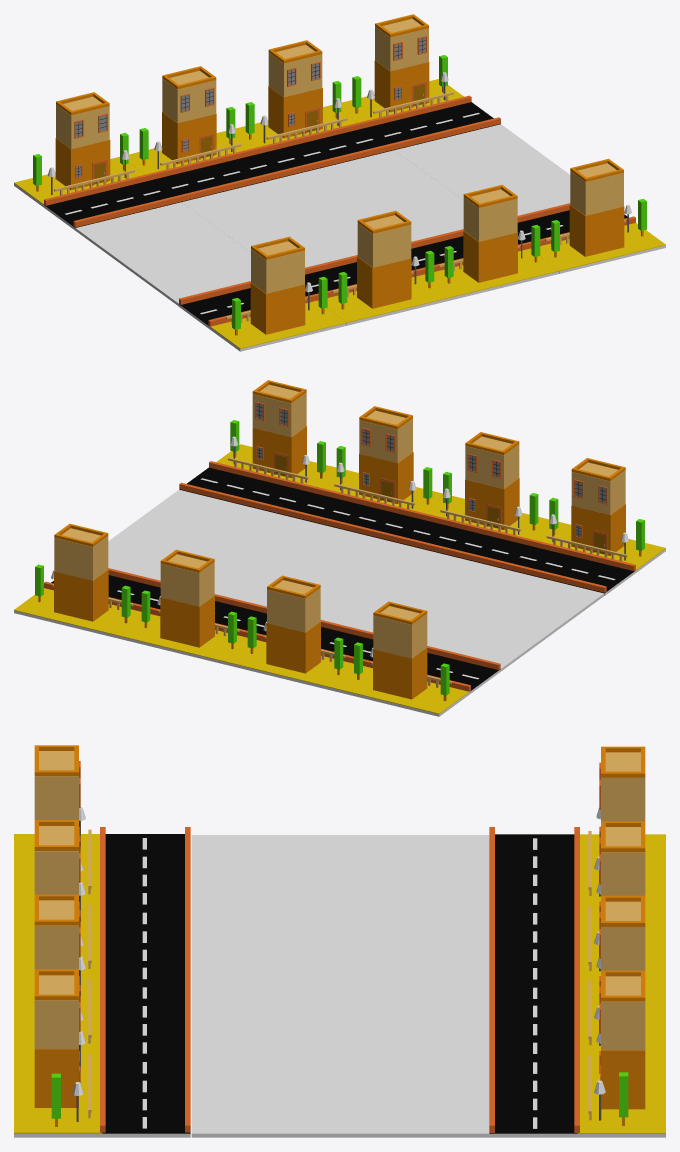
File: building121.fbx
3 renders of one model, top to bottom at view 1: azimuth 30°, elevation 25°; view 2: azimuth 150°, elevation 25°; view 3: azimuth 270°, elevation 25°, orthographic. The views are drawn at different scales.
Visible parts, largest first — view 1: Cube.121, Cube.106, Cube.055, Cube.089, Cube.072, Cube.193, Cube.039, Cube.004, Cube.022, Cube.006, Cube.024, Cube.041 (+46 smaller); view 2: Cube.121, Cube.192, Cube.021, Cube.003, Cube.038, Cube.056, Cube.073, Cube.090, Cube.107, Cube.058, Cube.075, Cube.109 (+46 smaller); view 3: Cube.121, Cube.038, Cube.055, Cube.003, Cube.072, Cube.021, Cube.089, Cube.192, Cube.106, Cube.037, Cube.054, Cube.058 (+33 smaller).
Part boxes in pixels (x1,y1,x2,y2): Cube.121: (75, 124, 570, 306); Cube.106: (44, 180, 181, 227); Cube.055: (365, 102, 500, 149); Cube.089: (153, 154, 287, 201); Cube.072: (259, 128, 394, 175); Cube.193: (250, 283, 305, 334); Cube.039: (569, 205, 624, 256); Cube.004: (357, 256, 411, 308); Cube.022: (463, 230, 517, 282); Cube.006: (357, 215, 411, 267); Cube.024: (463, 189, 517, 241); Cube.041: (570, 163, 623, 215); Cube.121: (108, 490, 603, 671); Cube.192: (498, 545, 634, 593); Cube.021: (285, 493, 420, 541); Cube.003: (392, 519, 527, 567); Cube.038: (179, 467, 314, 515); Cube.056: (54, 569, 108, 621); Cube.073: (160, 595, 214, 647); Cube.090: (266, 621, 320, 673); Cube.107: (373, 647, 427, 699); Cube.058: (54, 528, 108, 580); Cube.075: (160, 554, 214, 606); Cube.109: (373, 606, 427, 658); Cube.121: (191, 835, 489, 1137); Cube.038: (102, 1058, 190, 1133); Cube.055: (489, 1058, 577, 1133); Cube.003: (105, 908, 184, 983); Cube.072: (495, 983, 574, 1058); Cube.021: (105, 983, 184, 1057); Cube.089: (495, 909, 574, 983); Cube.192: (105, 834, 184, 908); Cube.106: (495, 834, 574, 908); Cube.037: (14, 1058, 102, 1133); Cube.054: (577, 1058, 665, 1133); Cube.058: (601, 976, 645, 1050).
Bounding box in the file's own units: 32014 × 5830 × 29504.
